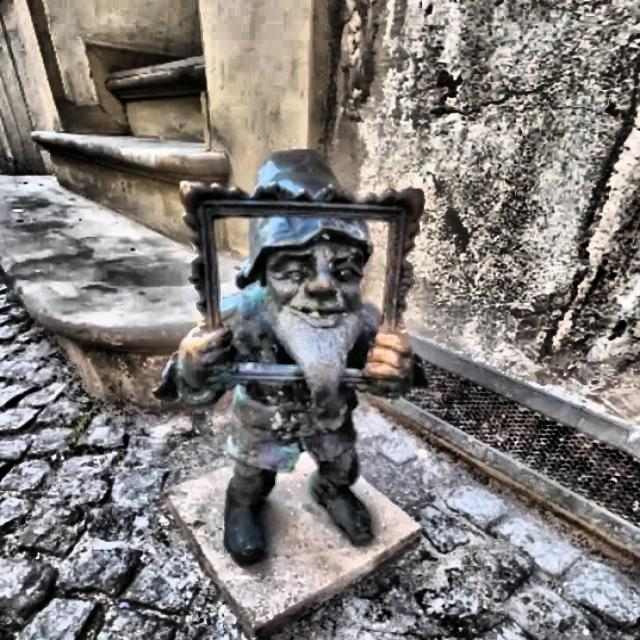Galeriusz: (157, 150, 423, 566)
